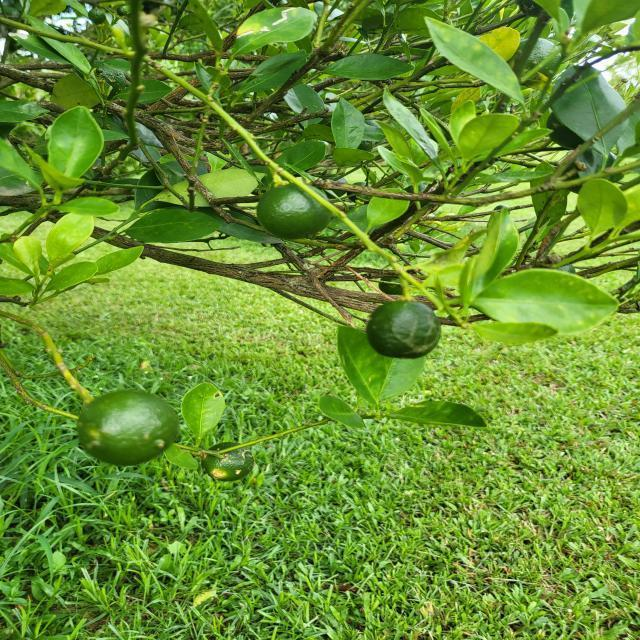thrips: (361, 293, 441, 363)
